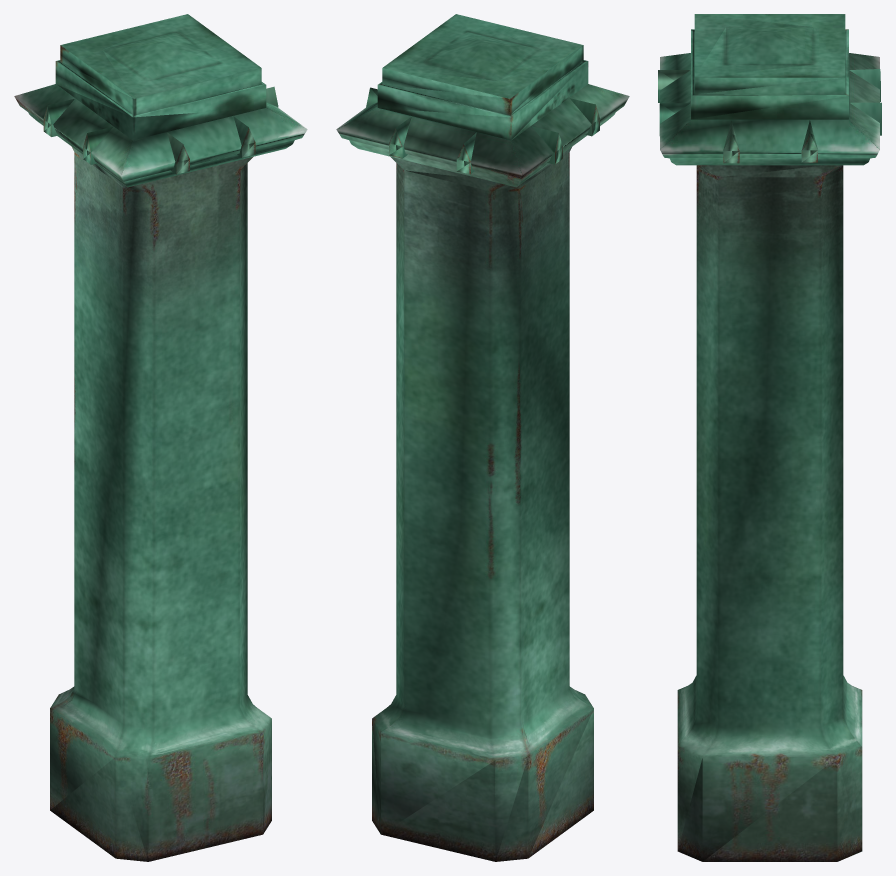
File: pillar2.obj
3 renders of one model, left to right at view 1: azimuth 30°, elevation 25°; view 2: azimuth 150°, elevation 25°; view 3: azimuth 270°, elevation 25°, orthographic. The views are drawn at different scales.
Parts seen in each view (by area): view 1: pillar; view 2: pillar; view 3: pillar.
Boxes of the visible parts, x1=… form: pillar: x1=14, y1=14, x2=307, y2=861; pillar: x1=336, y1=14, x2=629, y2=861; pillar: x1=658, y1=14, x2=881, y2=861.
Bounding box in the file's own units: 25.3 × 98.5 × 25.3.
